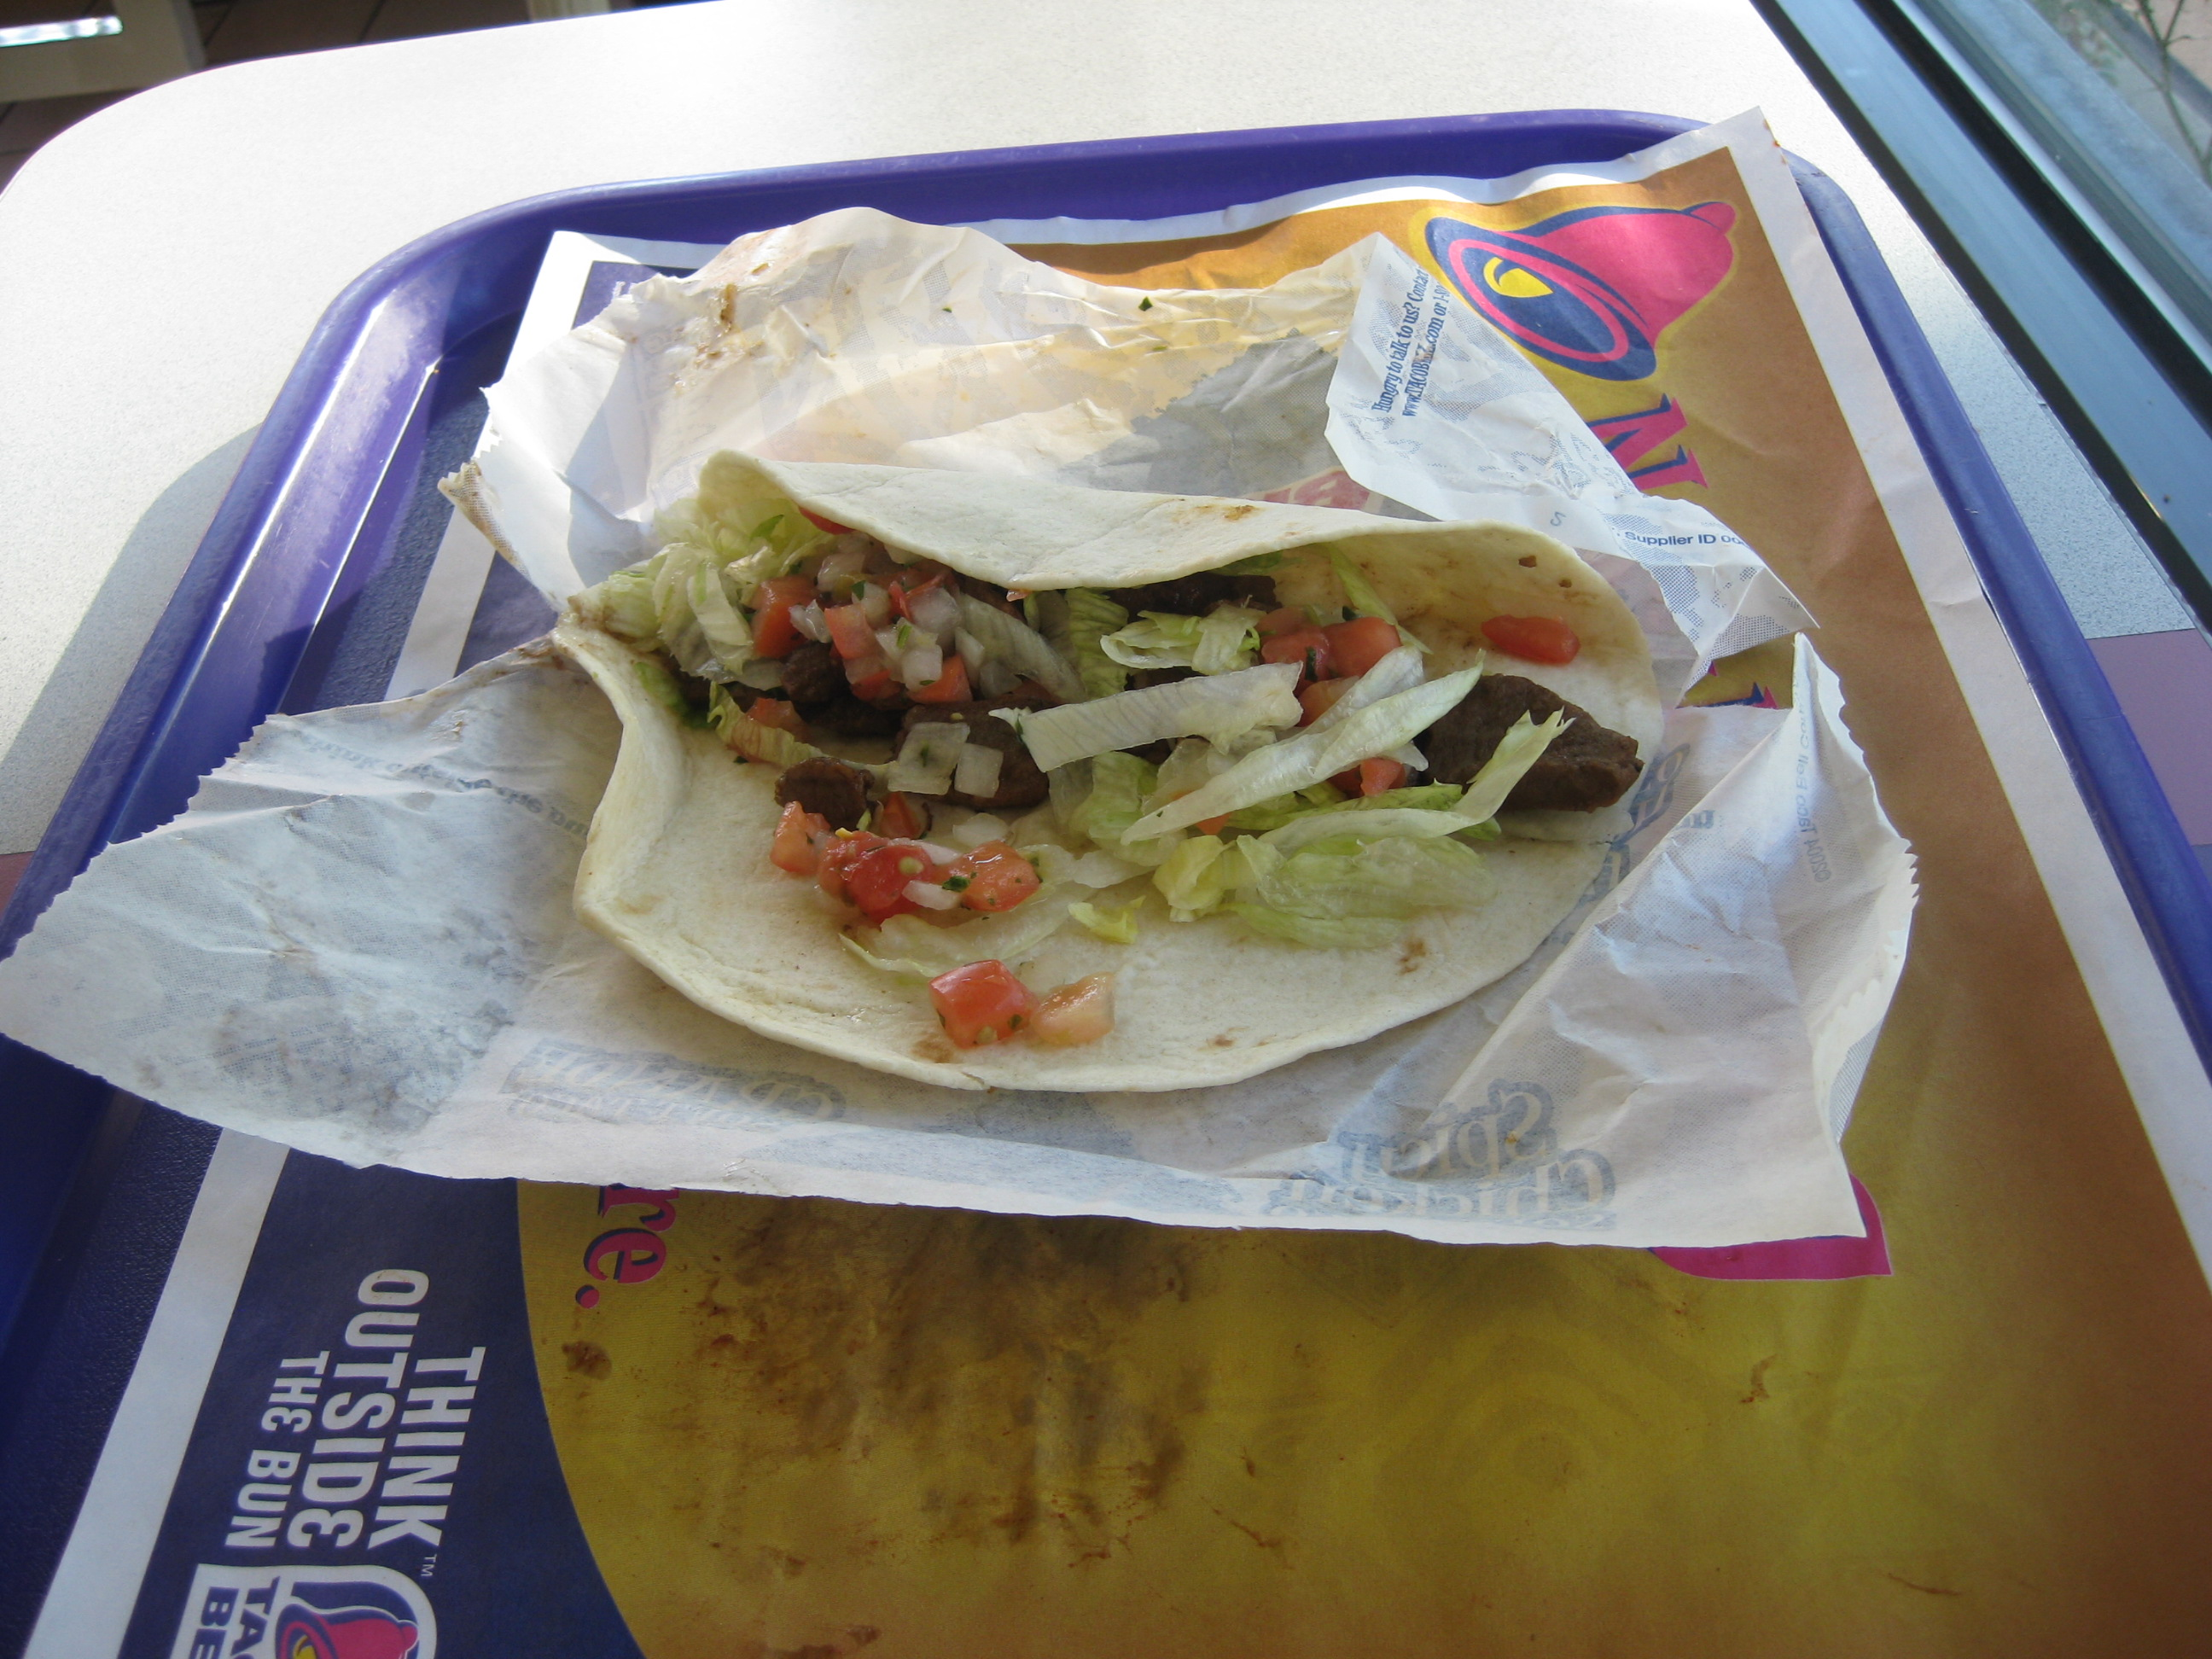taco: (548, 400, 1757, 1124)
